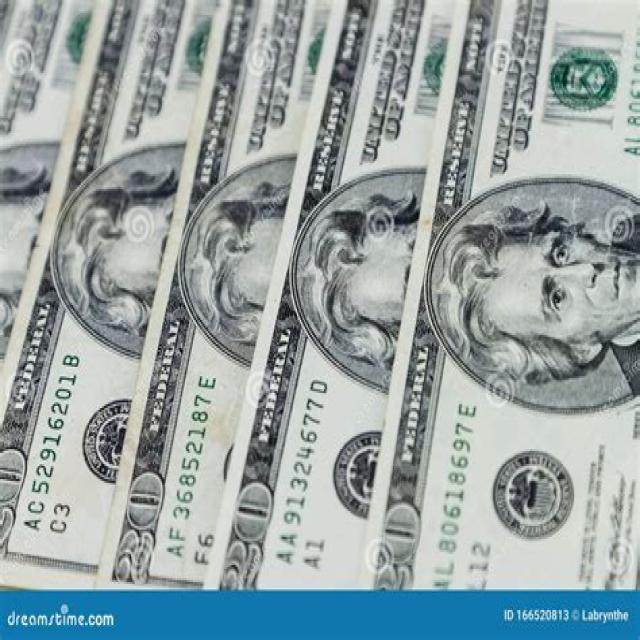Twenty: (353, 0, 638, 591), (202, 0, 456, 592), (97, 0, 336, 586), (0, 0, 227, 587)
